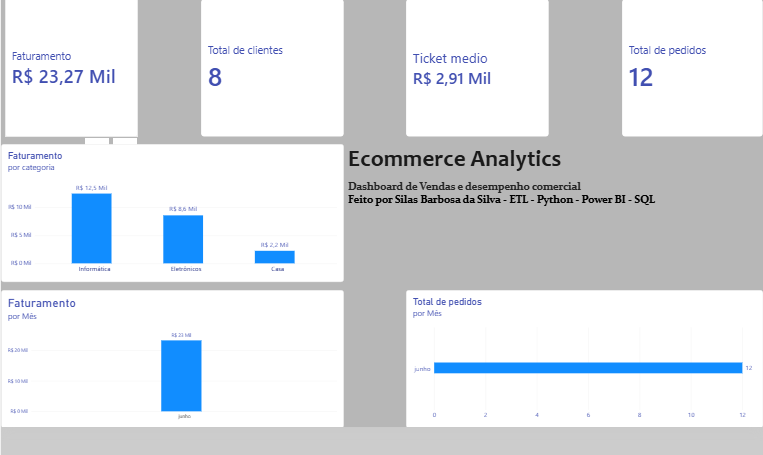

What the dashboard file says about the page in this screenshot:
{"tool":"powerbi","page":{"name":"Visão Geral","canvas":[1920,1080],"ordinal":0},"visuals":[{"type":"cardVisual","fields":{"Data":["itens_pedido.faturamento"]},"box":[10.1,0,335.1,347.7],"z":0},{"type":"cardVisual","fields":{"Data":["clientes.Total de clientes"]},"box":[503.9,0,360.3,347.7],"z":1000},{"type":"cardVisual","fields":{"Data":["pedidos.Ticket medio"]},"box":[1020.5,0,360.3,347.7],"z":2000},{"type":"cardVisual","fields":{"Data":["pedidos.Total de pedidos"]},"box":[1564.7,0,355.3,347.7],"z":3000},{"type":"columnChart","title":"Faturamento","fields":{"Category":["pedidos.data_pedido.Variation.Hierarquia de datas.Mês"],"Y":["itens_pedido.faturamento"]},"box":[0,733.2,864.3,347.7],"z":4000},{"type":"columnChart","title":"Faturamento","fields":{"Y":["itens_pedido.faturamento"],"Category":["produtos.categoria"]},"box":[0,365.4,864.3,347.7],"z":5000},{"type":"barChart","fields":{"Y":["pedidos.Total de pedidos"],"Category":["pedidos.data_pedido.Variation.Hierarquia de datas.Mês"]},"box":[1020.5,733.2,899.5,347.7],"z":6000},{"type":"textbox","box":[874,365,864,348],"z":7000}]}

Visuals, with their boxes on the page's 1920x1080 design canvas (x1, y1, x2, y2). These are canvas units, not pixel positions in the 763x455 screenshot, which may show the page scaled, cropped or inside an application window:
cardVisual - itens_pedido.faturamento: 10:0:345:348
cardVisual - clientes.Total de clientes: 504:0:864:348
cardVisual - pedidos.Ticket medio: 1020:0:1381:348
cardVisual - pedidos.Total de pedidos: 1565:0:1920:348
"Faturamento" columnChart: 0:733:864:1081
"Faturamento" columnChart: 0:365:864:713
barChart - pedidos.Total de pedidos x pedidos.data_pedido.Variation.Hierarquia de datas.Mês: 1020:733:1920:1081
textbox: 874:365:1738:713
